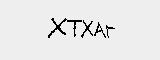А: (94, 21, 105, 39)
Г: (103, 22, 114, 38)
Т: (70, 16, 84, 38)
Х: (48, 18, 66, 39), (81, 19, 92, 39)
